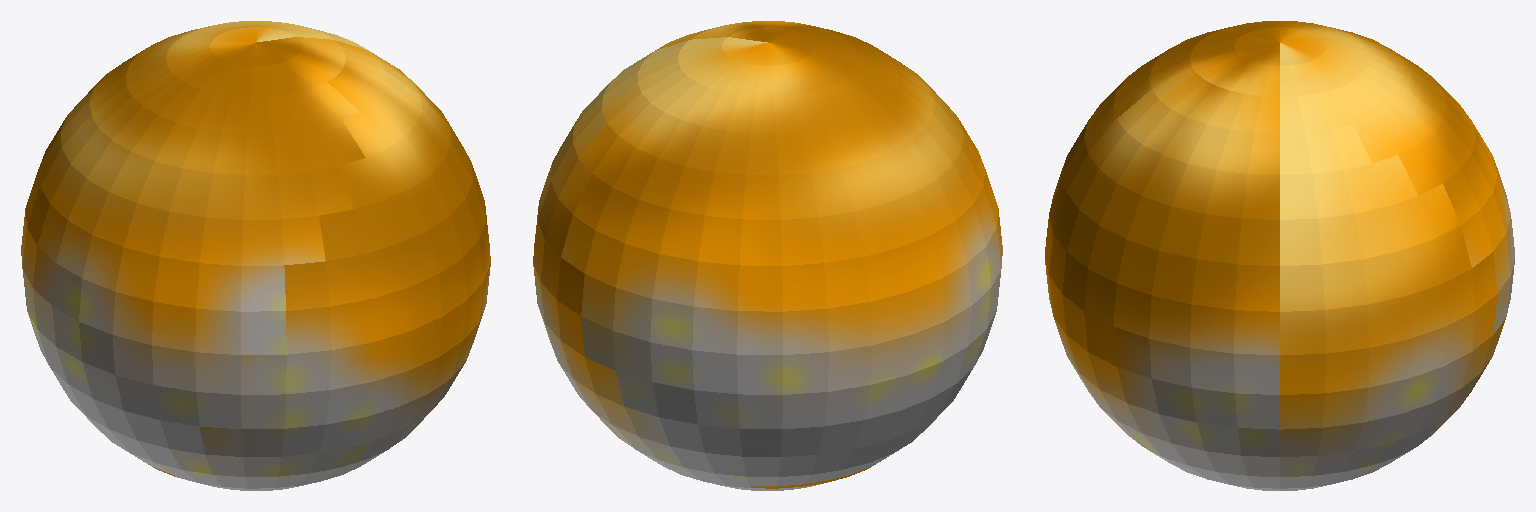
The picture shows the model from 3 angles: view 1: azimuth 30°, elevation 25°; view 2: azimuth 150°, elevation 25°; view 3: azimuth 270°, elevation 25°; orthographic projection.
Visible parts, largest first — view 1: Sphere; view 2: Sphere; view 3: Sphere.
Boxes of the visible parts, x1=… form: Sphere: x1=21, y1=21, x2=490, y2=490; Sphere: x1=533, y1=21, x2=1002, y2=490; Sphere: x1=1045, y1=21, x2=1514, y2=490.
Size of the model in its own units: 2 by 2 by 2.
Materials: 1 (1 with a texture image).